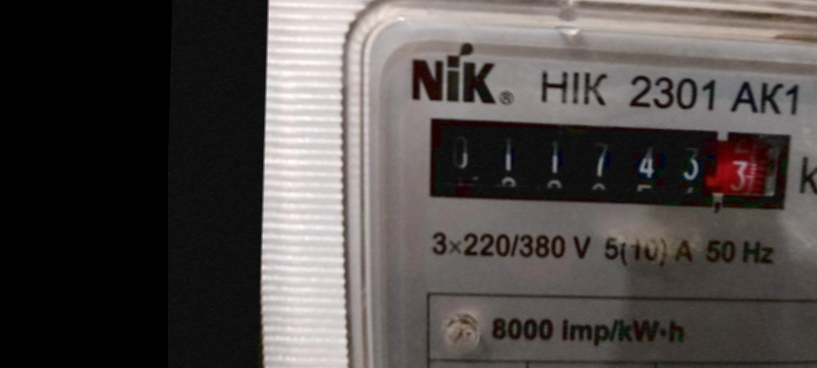0: (449, 131, 472, 171), (499, 132, 518, 173)
1: (546, 134, 563, 175)
3: (681, 141, 702, 184), (728, 155, 749, 194)
4: (636, 139, 657, 180)
7: (589, 135, 613, 180)
screen: (409, 103, 800, 221)
